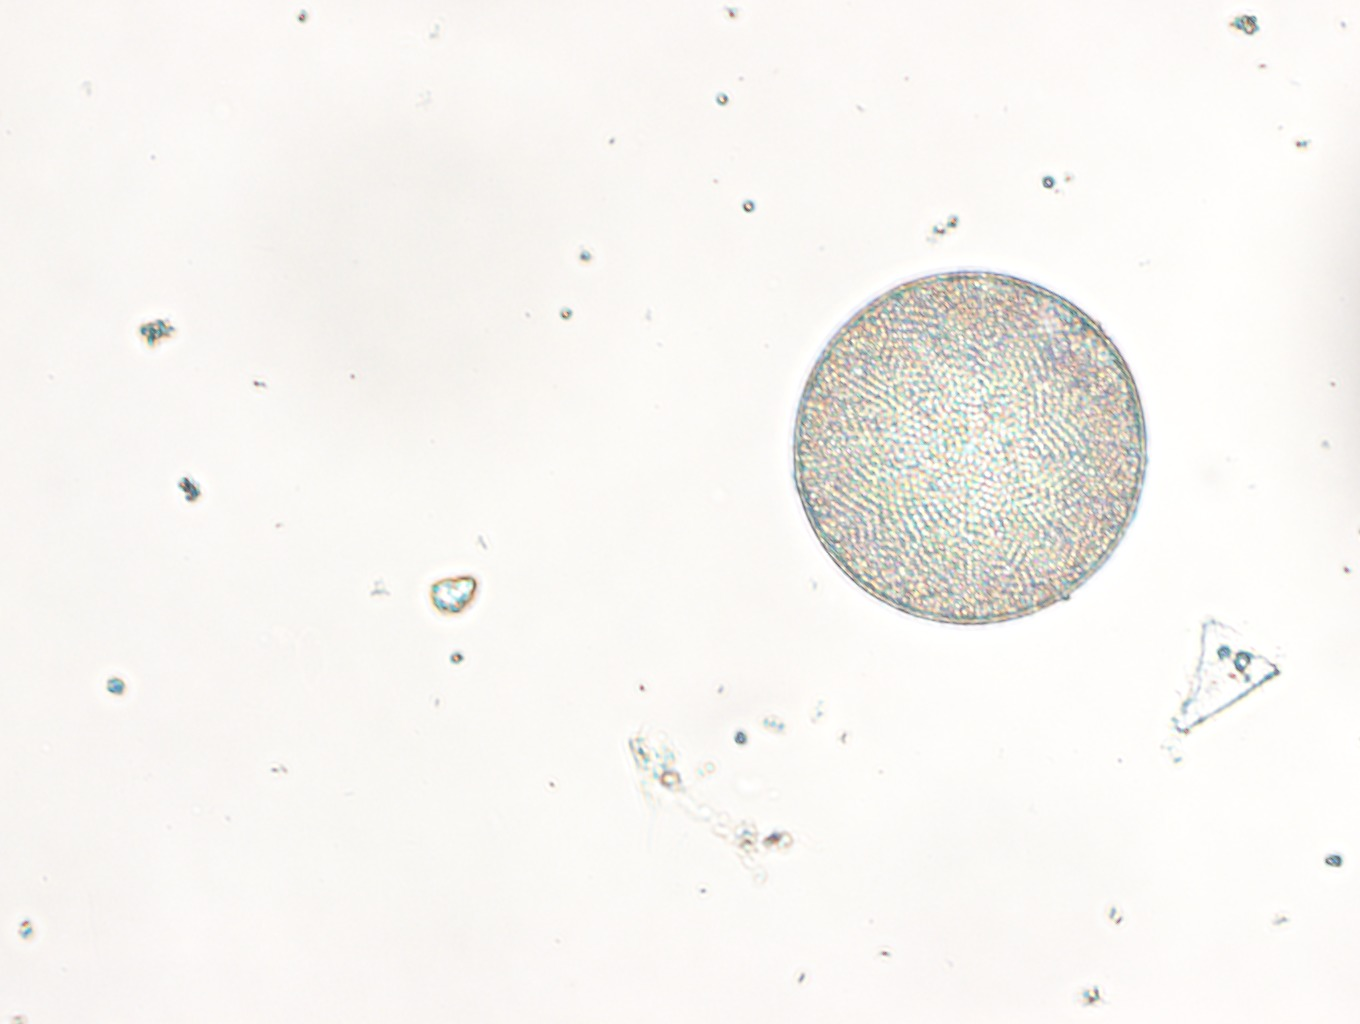coscinodiscus: (789, 268, 1146, 624)
